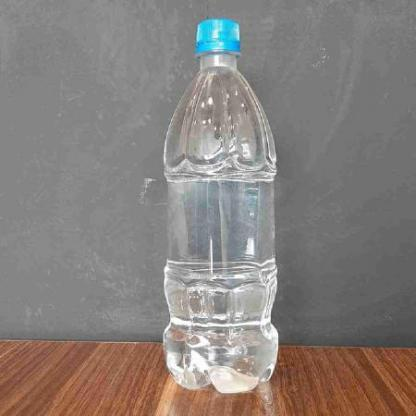Plastic Bottle: (161, 17, 279, 393)
